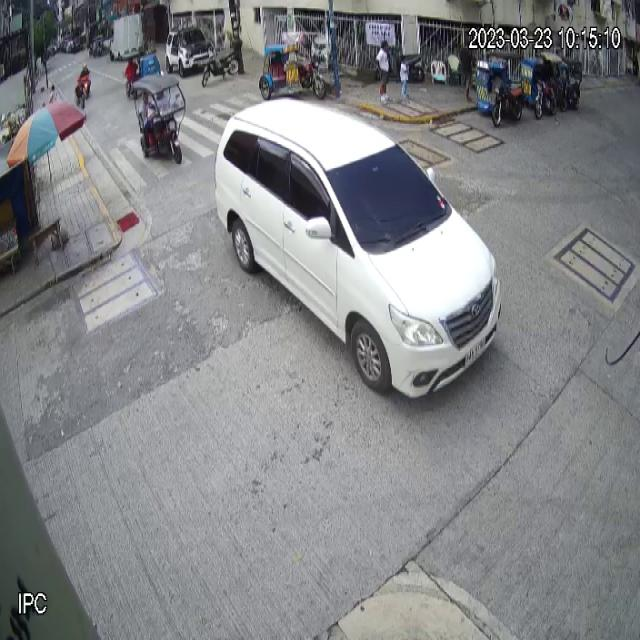Car: (215, 96, 502, 401)
Tricycle: (261, 32, 332, 104), (475, 49, 525, 126)
